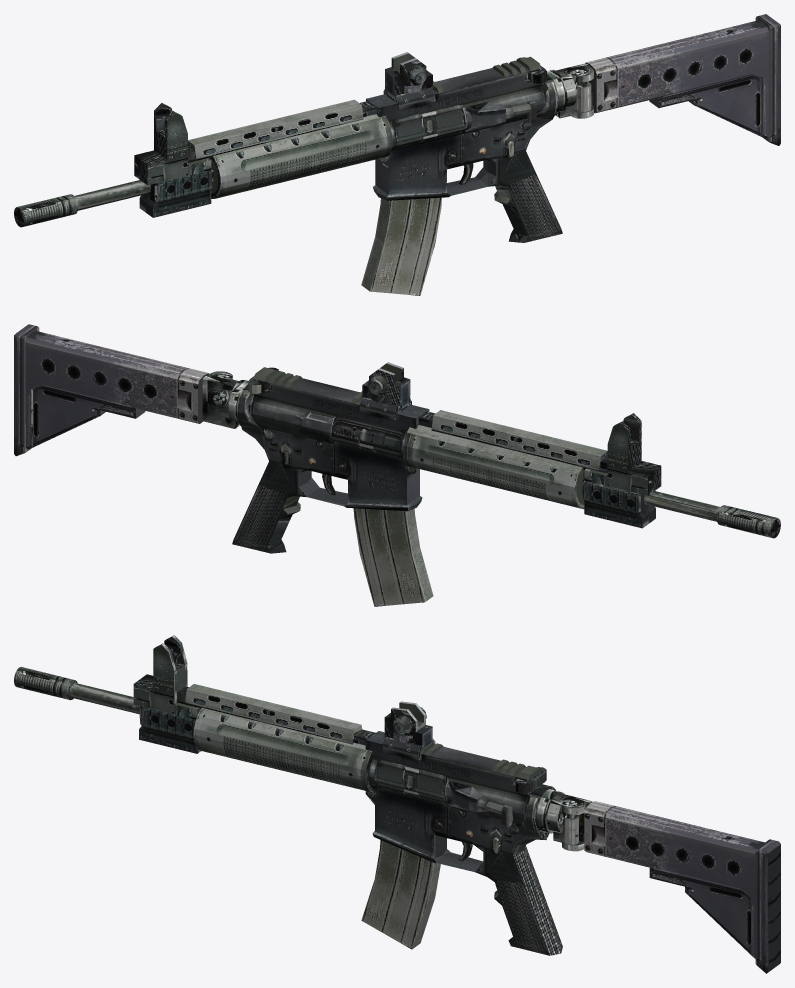
3 renders of one model, top to bottom at view 1: azimuth 30°, elevation 25°; view 2: azimuth 150°, elevation 25°; view 3: azimuth 330°, elevation 25°, orthographic.
Parts seen in each view (by area): view 1: Lr300; view 2: Lr300; view 3: Lr300.
Boxes of the visible parts, x1,y1,x2,y2 form: Lr300: (14,14,780,295); Lr300: (14,324,780,606); Lr300: (14,635,780,973).
Size of the model in its own units: 13.72 by 4.27 by 0.8812.
